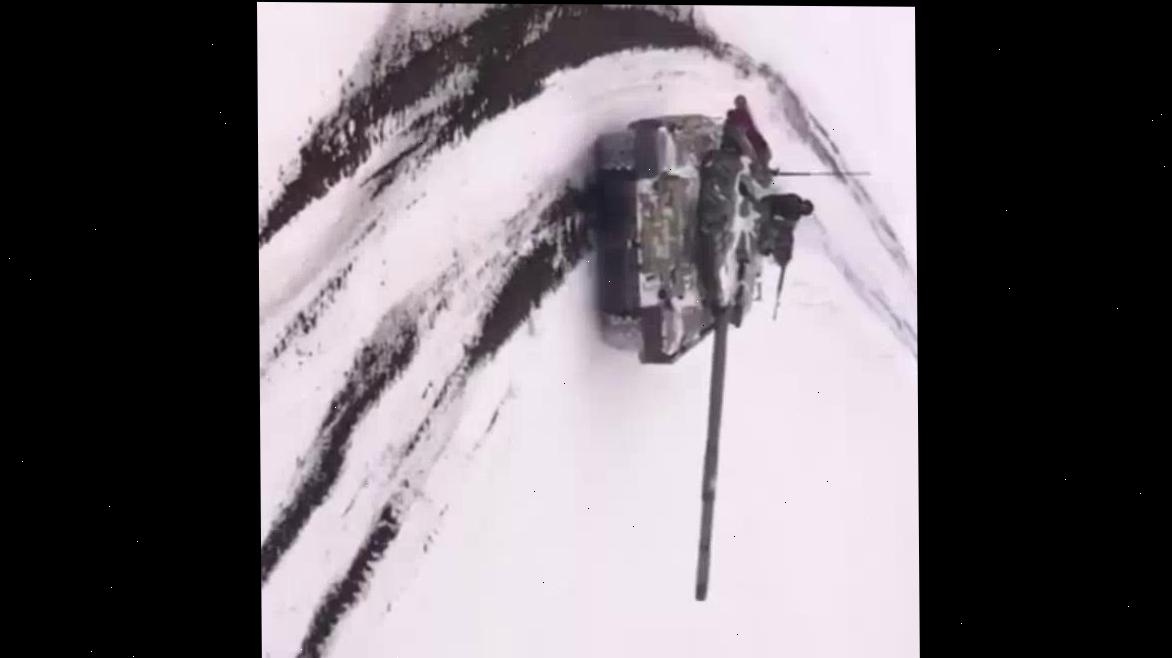tank: (592, 90, 816, 604)
